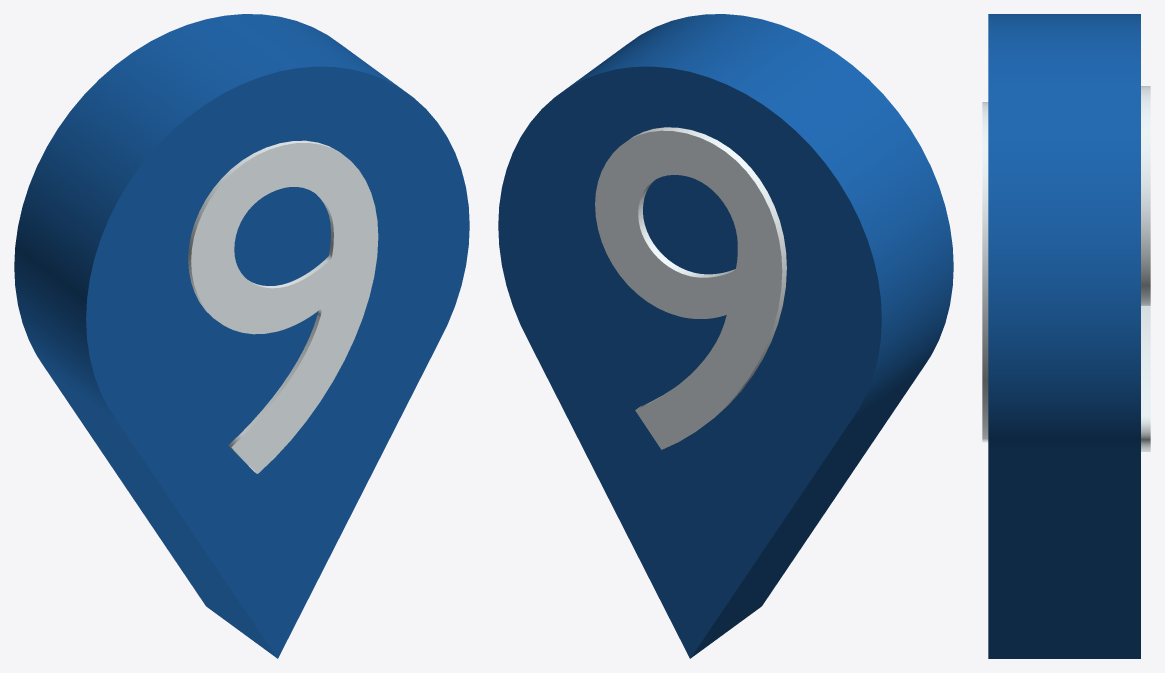
The model's file is syokudou_point.glb.
3 renders of one model, left to right at view 1: azimuth 30°, elevation 25°; view 2: azimuth 150°, elevation 25°; view 3: azimuth 270°, elevation 25°, orthographic. The views are drawn at different scales.
Visible parts, largest first — view 1: 円.008, テキスト.015; view 2: 円.008, テキスト.016; view 3: 円.008, テキスト.016, テキスト.015.
Part boxes in pixels (x1,y1,x2,y2): 円.008: (14, 14, 469, 658); テキスト.015: (188, 140, 378, 473); 円.008: (498, 14, 953, 658); テキスト.016: (595, 127, 786, 449); 円.008: (988, 14, 1140, 658); テキスト.016: (1141, 86, 1150, 451); テキスト.015: (982, 102, 988, 442).
Bounding box in the file's own units: 2 × 2.92 × 0.7172.
Materials: 3 (3 with a texture image).
